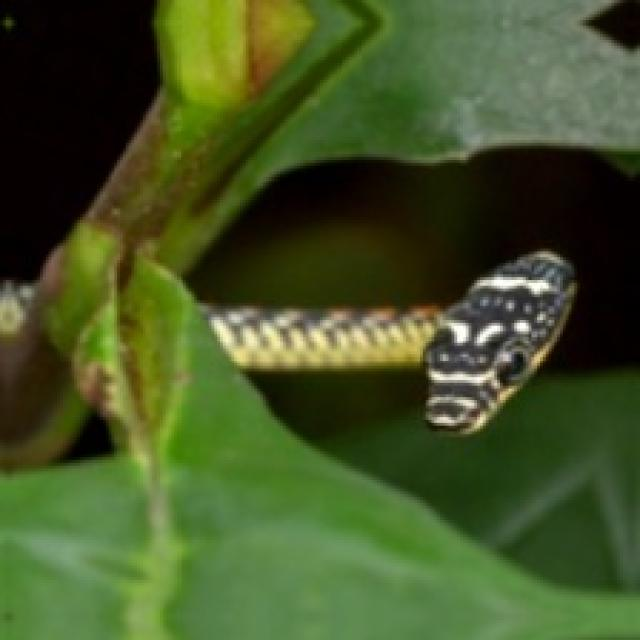paradise tree snake: (200, 251, 574, 431)
